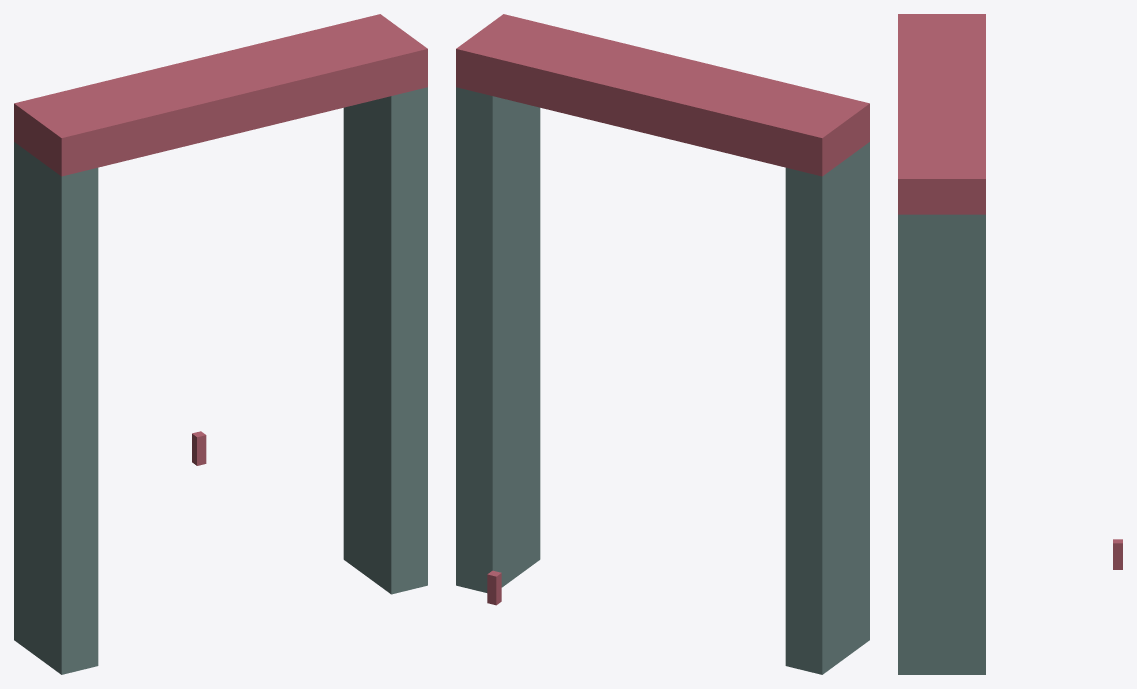
Rendered from arcade-span.glb.
The picture shows the model from 3 angles, left to right: view 1: azimuth 30°, elevation 25°; view 2: azimuth 150°, elevation 25°; view 3: azimuth 270°, elevation 25°; orthographic projection. The views are drawn at different scales.
Parts seen in each view (by area): view 1: box-0, box-1, box-2; view 2: box-0, box-1, box-2; view 3: box-1, box-2.
Boxes of the visible parts, x1=… form: box-0: x1=14, y1=142, x2=98, y2=674; box-1: x1=343, y1=87, x2=427, y2=594; box-2: x1=14, y1=14, x2=427, y2=176; box-0: x1=785, y1=142, x2=869, y2=674; box-1: x1=456, y1=87, x2=540, y2=592; box-2: x1=456, y1=14, x2=869, y2=176; box-1: x1=898, y1=214, x2=985, y2=674; box-2: x1=898, y1=14, x2=985, y2=214.
Bounding box in the file's own units: 40 × 56 × 23.
